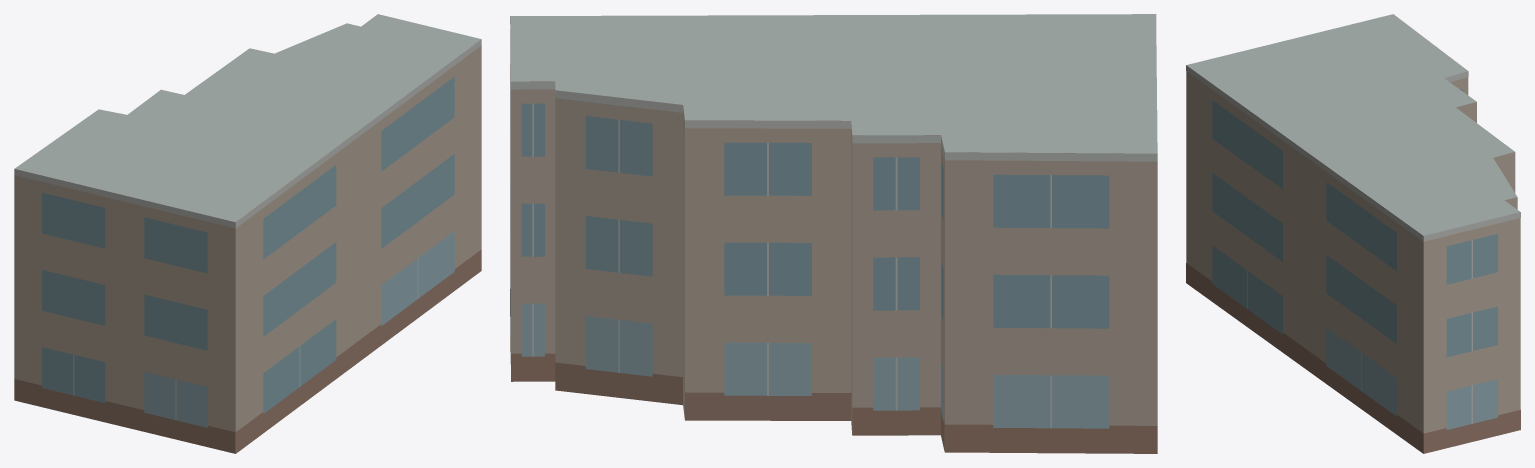
File: survey-upis-32706641.glb
3 renders of one model, left to right at view 1: azimuth 30°, elevation 25°; view 2: azimuth 150°, elevation 25°; view 3: azimuth 270°, elevation 25°, orthographic. The views are drawn at different scales.
Parts seen in each view (by area): view 1: survey-upis-32706641.tmp; view 2: survey-upis-32706641.tmp; view 3: survey-upis-32706641.tmp.
Boxes of the visible parts, x1,y1,x2,y2 form: survey-upis-32706641.tmp: (14,14,481,453); survey-upis-32706641.tmp: (510,14,1157,453); survey-upis-32706641.tmp: (1186,14,1520,453).
Bounding box in the file's own units: 19.99 × 9.15 × 12.74.
